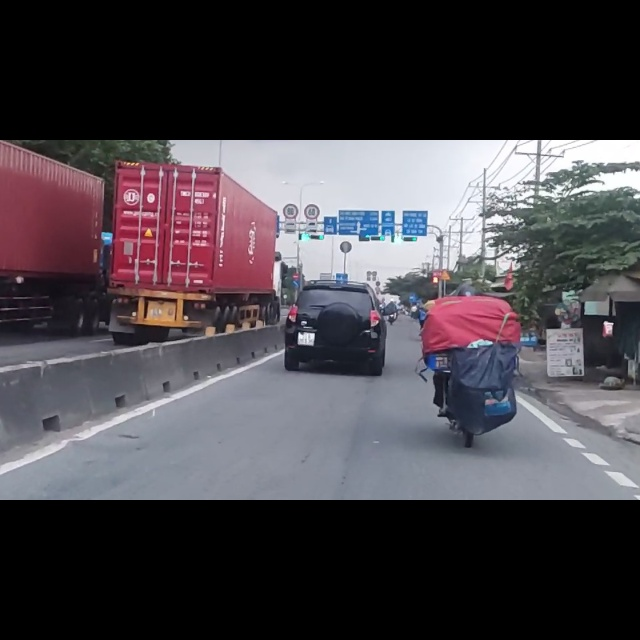bien_hieu_lenh: (303, 113, 321, 143), (283, 114, 299, 141), (291, 237, 299, 248), (292, 250, 299, 261)
